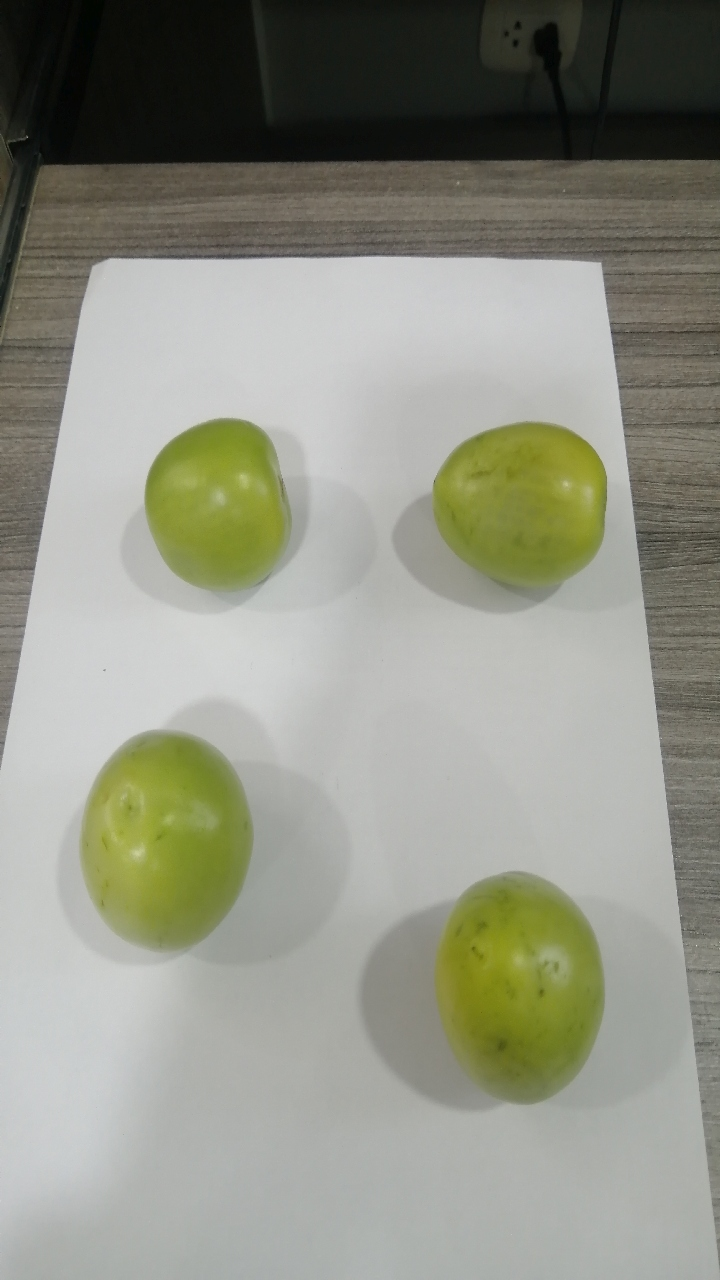tomateVerde: (408, 848, 634, 1122), (51, 699, 268, 974), (123, 388, 318, 608), (421, 414, 637, 605)
